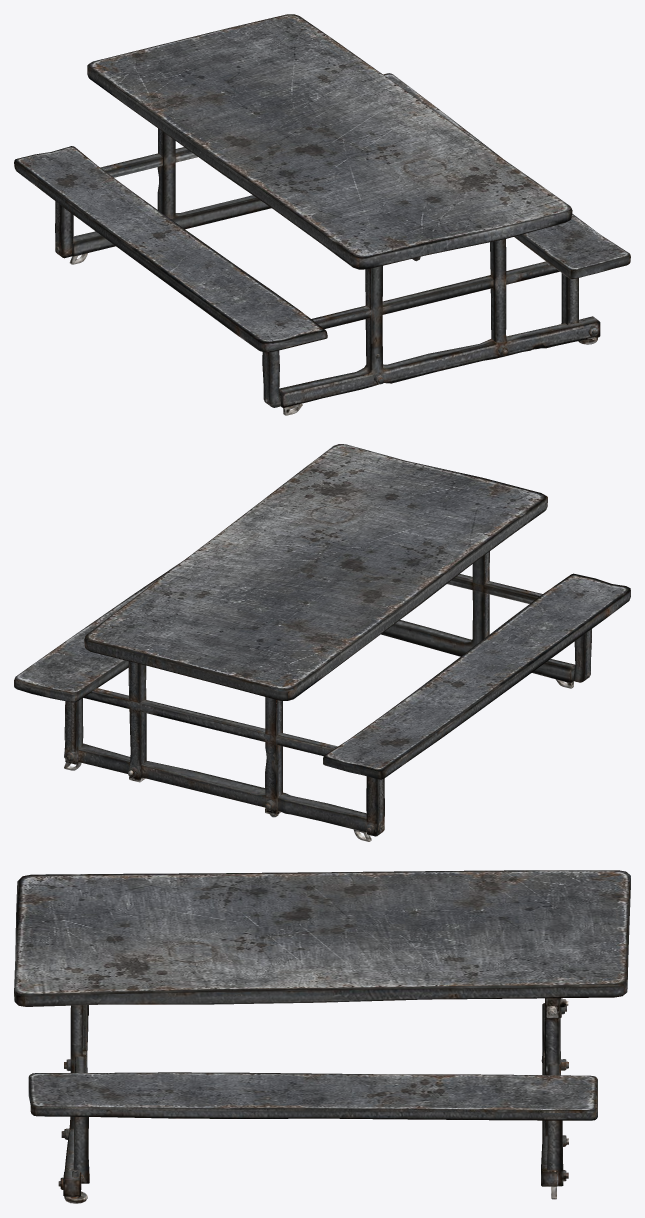
The model's file is Cafeteria Table - Bunker.glb.
3 views of the same model, one above another, from view 1: azimuth 30°, elevation 25°; view 2: azimuth 150°, elevation 25°; view 3: azimuth 270°, elevation 25° (orthographic). The views are drawn at different scales.
Parts seen in each view (by area): view 1: tripo_node_c90150de-4281-4c37-b81a-581b04025a6d; view 2: tripo_node_c90150de-4281-4c37-b81a-581b04025a6d; view 3: tripo_node_c90150de-4281-4c37-b81a-581b04025a6d.
Boxes of the visible parts, x1,y1,x2,y2 form: tripo_node_c90150de-4281-4c37-b81a-581b04025a6d: (14, 14, 630, 415); tripo_node_c90150de-4281-4c37-b81a-581b04025a6d: (14, 444, 630, 841); tripo_node_c90150de-4281-4c37-b81a-581b04025a6d: (14, 870, 630, 1203).
Bounding box in the file's own units: 0.8003 × 0.3364 × 0.9995.
Materials: 1 (1 with a texture image).
